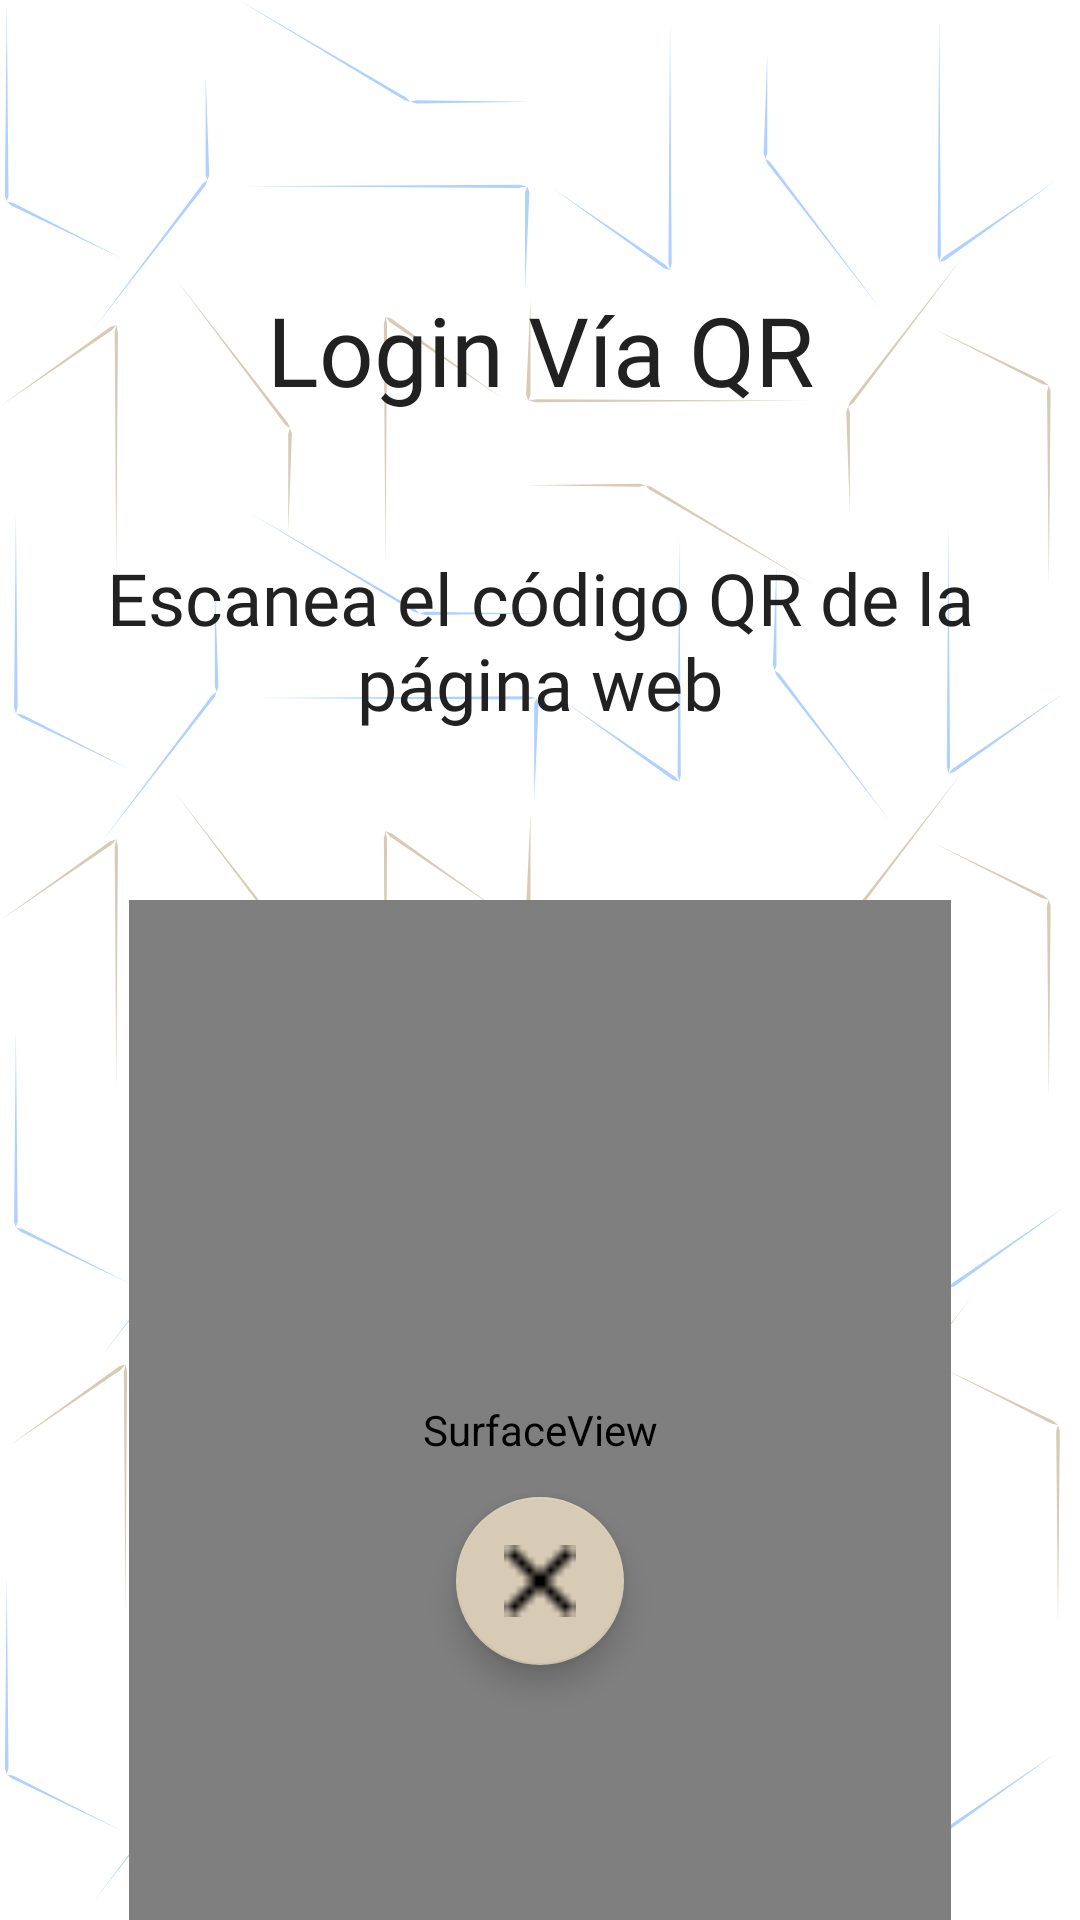

Point at icon controls on the screen. Image size 1080 x 1920, points as (x=x, y=y).
cancel: (x=540, y=1581)
